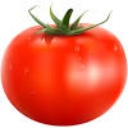tomato: (1, 23, 128, 125)
